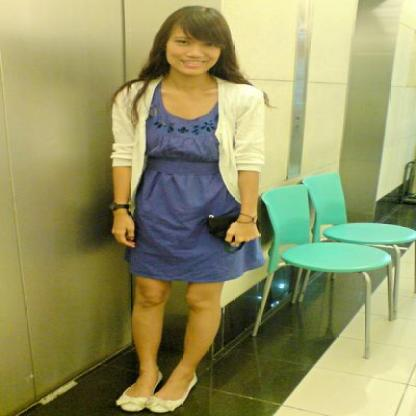bag: (198, 196, 274, 241)
dress: (112, 92, 274, 282)
jacket: (110, 80, 266, 190)
shoe: (117, 383, 184, 415)
